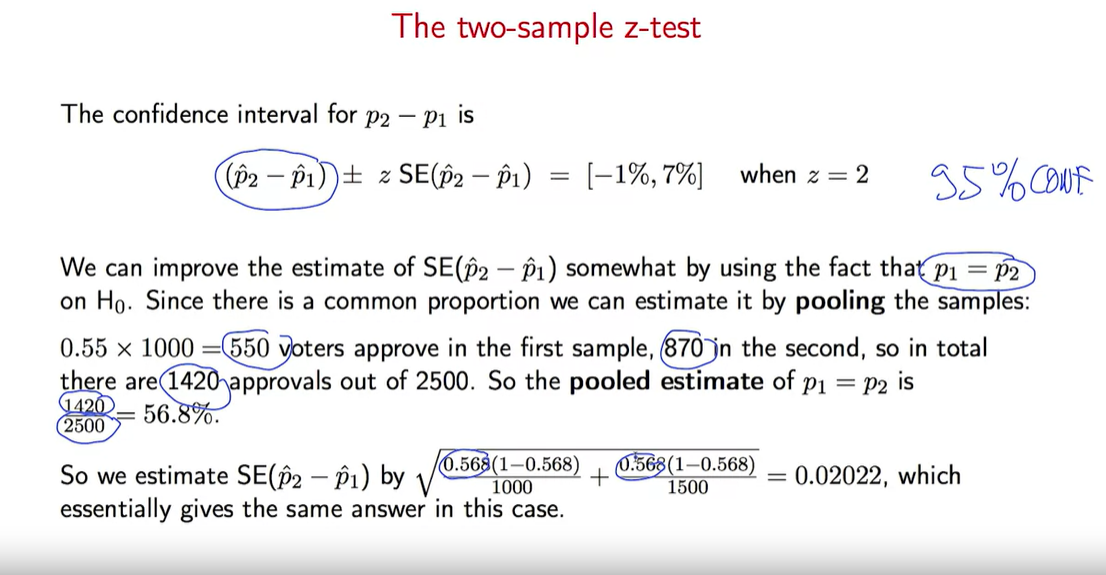equation: (216, 154, 884, 202), (418, 446, 883, 496), (58, 395, 221, 438)
text: (56, 249, 1033, 317), (57, 329, 1000, 398), (48, 498, 576, 525), (55, 100, 477, 133), (383, 8, 707, 50), (58, 459, 406, 491), (891, 463, 977, 493)
